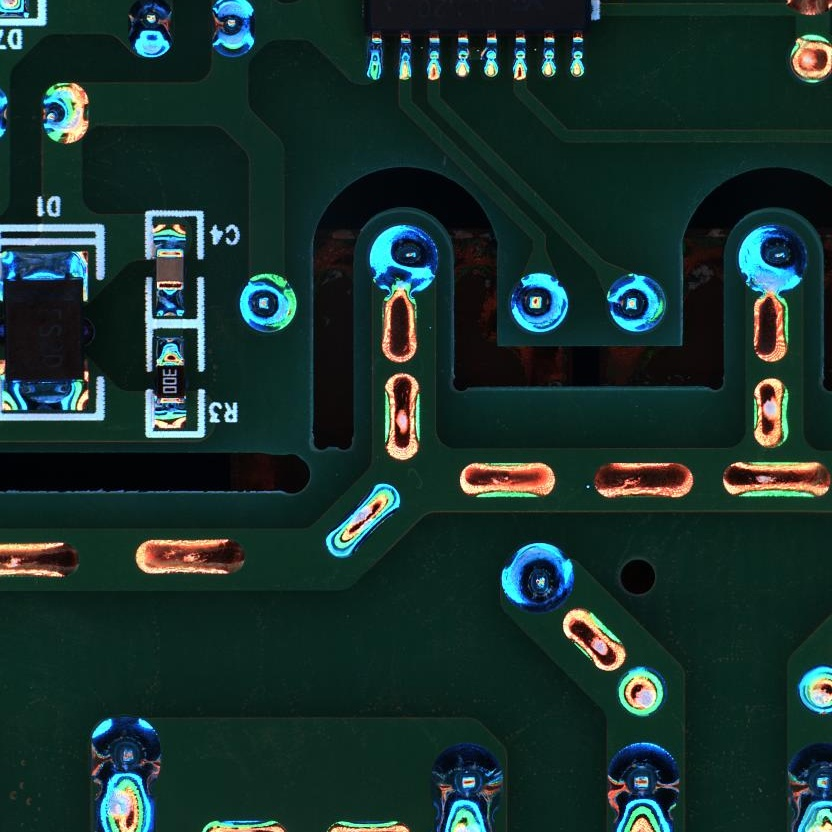spot: (88, 716, 164, 794), (605, 741, 681, 819), (429, 743, 505, 819), (367, 223, 439, 297), (500, 541, 577, 610), (737, 224, 810, 296), (603, 271, 668, 334), (508, 270, 570, 335), (238, 270, 300, 334), (788, 742, 832, 817), (41, 80, 90, 145), (614, 667, 667, 720), (127, 1, 173, 60), (208, 1, 255, 58), (798, 663, 832, 714)
